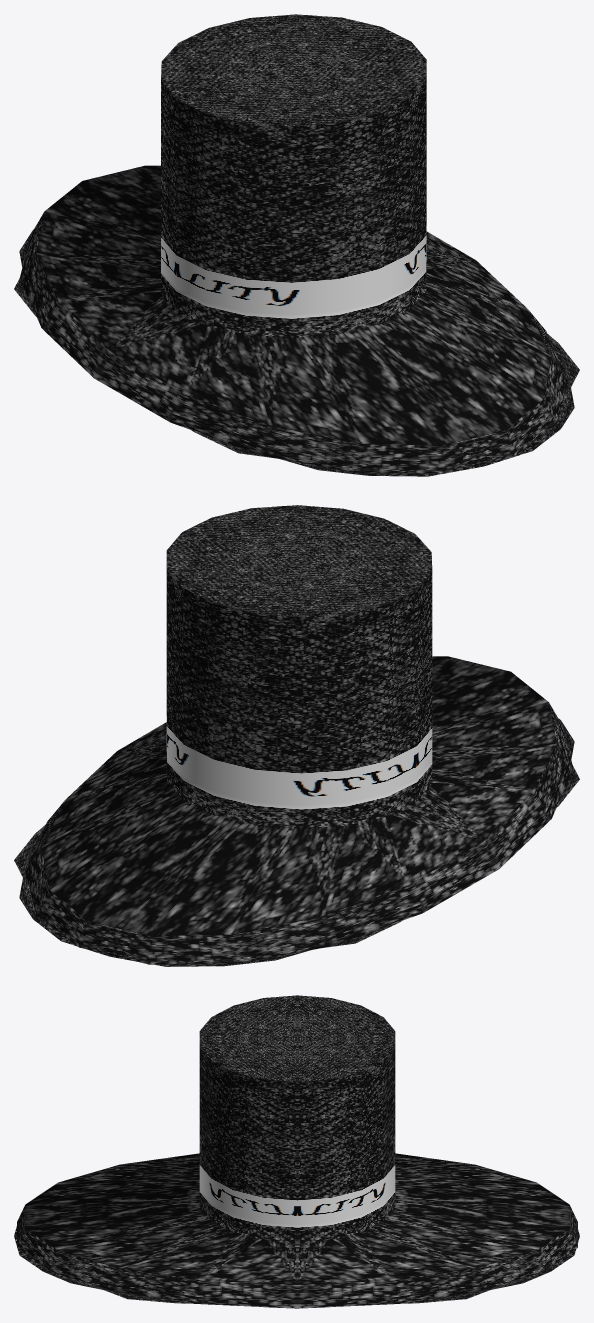
Rendered from hat5.FBX.
3 views of the same model, one above another, from view 1: azimuth 30°, elevation 25°; view 2: azimuth 150°, elevation 25°; view 3: azimuth 270°, elevation 25° (orthographic). The views are drawn at different scales.
Visible parts, largest first — view 1: Cylinder001, Cylinder002; view 2: Cylinder001, Cylinder002; view 3: Cylinder001, Cylinder002.
Part boxes in pixels (x1,y1,x2,y2): Cylinder001: (19,14,567,473); Cylinder002: (14,229,579,476); Cylinder001: (25,505,573,964); Cylinder002: (14,718,579,966); Cylinder001: (17,995,577,1308); Cylinder002: (14,1226,579,1308).
Size of the model in its own units: 67.25 by 41.73 by 109.
Materials: 2 (2 with a texture image).
